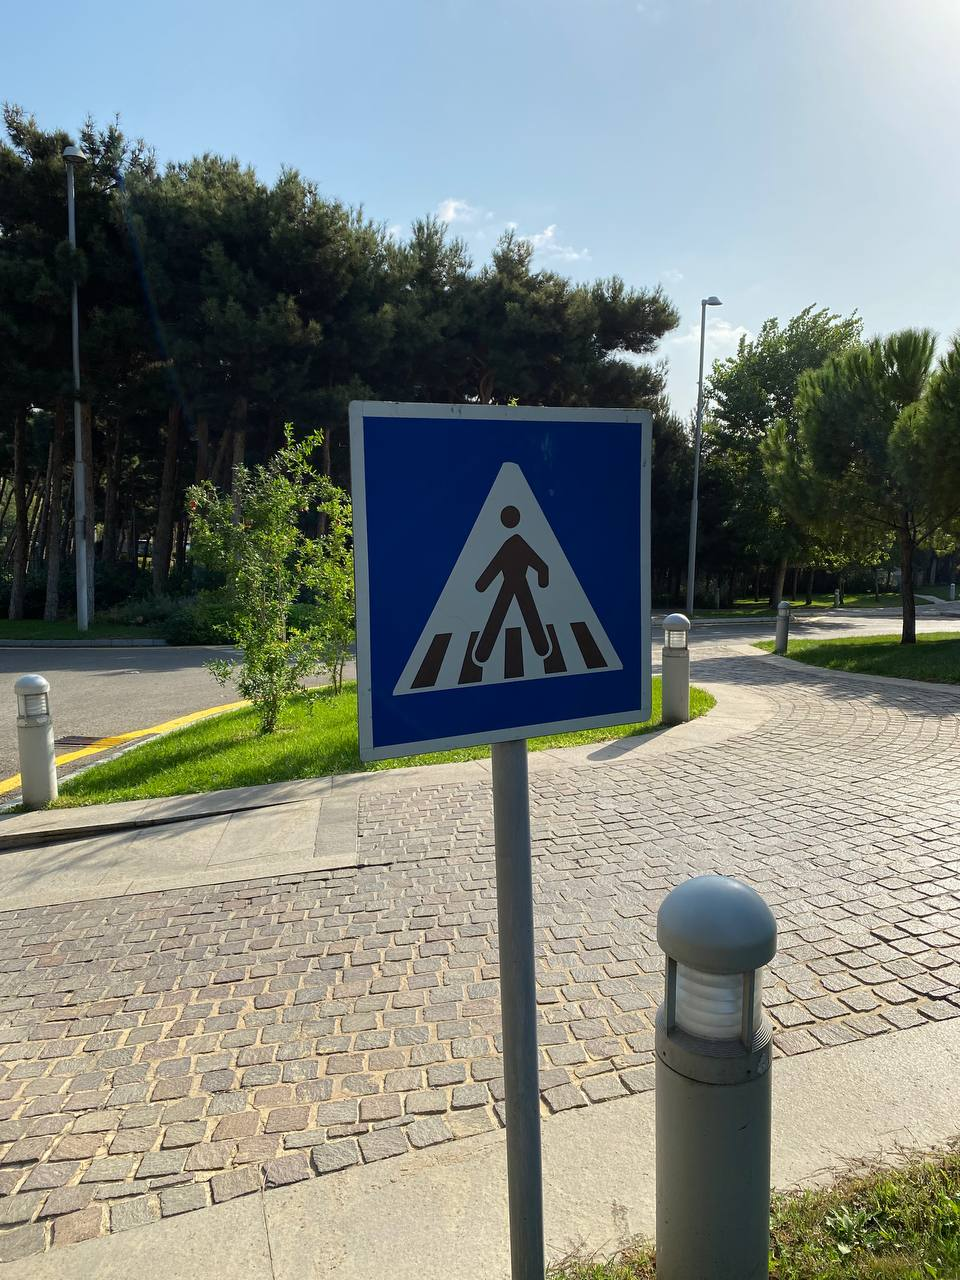Pedestrian Crossing: (345, 397, 653, 761)
